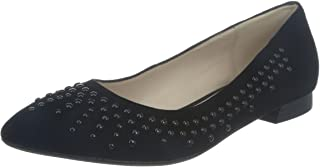shoes: (1, 1, 317, 165)
